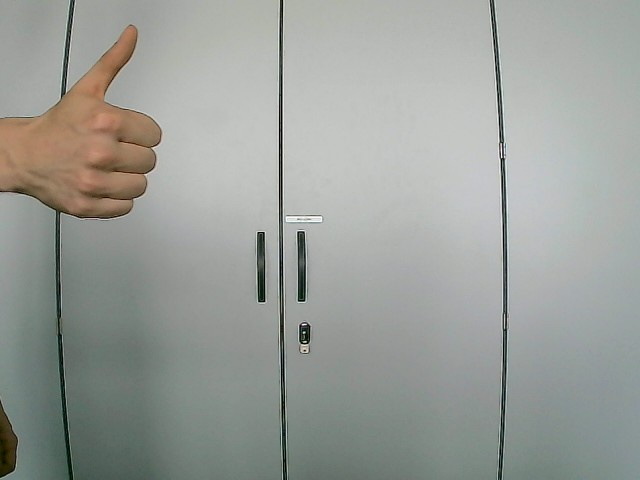up: (1, 23, 163, 221)
